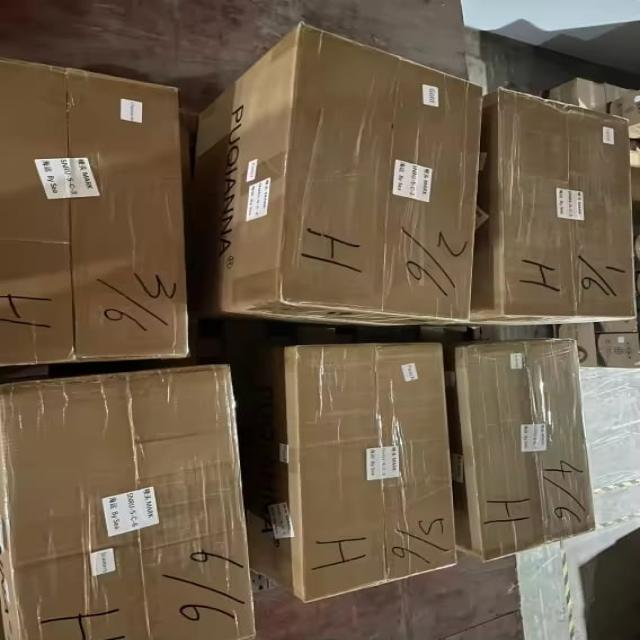carton_box: (205, 18, 476, 334), (0, 361, 273, 640), (242, 332, 459, 618), (0, 51, 197, 365), (481, 58, 640, 332), (442, 332, 608, 570)
export_mark_label: (89, 474, 172, 546), (29, 149, 109, 210), (391, 140, 444, 214), (352, 433, 417, 492), (546, 175, 597, 230), (518, 412, 548, 466)
